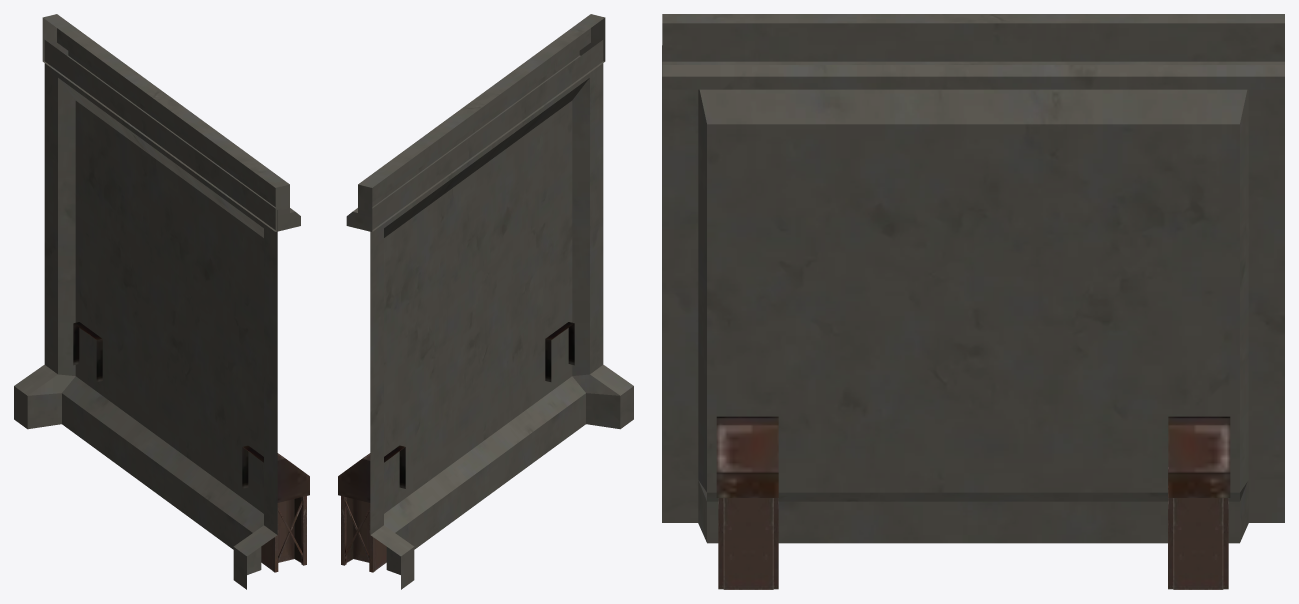
The model's file is wall-panel-hydrant.gltf.
3 renders of one model, left to right at view 1: azimuth 30°, elevation 25°; view 2: azimuth 150°, elevation 25°; view 3: azimuth 270°, elevation 25°, orthographic. The views are drawn at different scales.
Parts seen in each view (by area): view 1: Plane.004; view 2: Plane.004; view 3: Plane.004.
Boxes of the visible parts, x1=… form: Plane.004: x1=14, y1=14, x2=309, y2=589; Plane.004: x1=338, y1=14, x2=633, y2=589; Plane.004: x1=662, y1=14, x2=1284, y2=589.
Bounding box in the file's own units: 0.6463 × 3 × 3.13.
3 materials, 3 textured.
